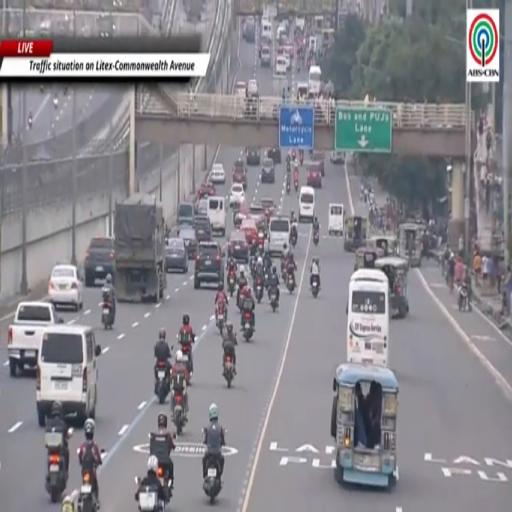car: (48, 264, 83, 311), (84, 237, 115, 286), (194, 242, 223, 289), (165, 238, 188, 273), (228, 231, 250, 264), (178, 227, 197, 259), (240, 218, 258, 247), (194, 215, 212, 243), (233, 159, 247, 189), (233, 201, 248, 228), (177, 203, 194, 226), (310, 150, 324, 177), (209, 163, 226, 185), (261, 158, 275, 183), (230, 183, 245, 206), (307, 163, 321, 187), (260, 198, 275, 220), (197, 182, 215, 199), (245, 146, 261, 165), (248, 204, 265, 221), (194, 198, 208, 216), (260, 45, 271, 67), (267, 148, 281, 164), (234, 82, 247, 97), (330, 151, 344, 164), (248, 79, 258, 95)
jeepney: (331, 363, 398, 487), (375, 256, 408, 317), (398, 222, 426, 266), (344, 216, 368, 251), (354, 246, 384, 270), (368, 235, 397, 255)
motorcycle: (45, 432, 68, 503), (203, 457, 221, 504), (77, 471, 98, 511), (155, 361, 170, 404), (138, 487, 164, 511), (173, 390, 185, 435), (182, 344, 193, 379), (458, 286, 471, 311), (216, 302, 226, 334), (224, 356, 234, 388), (102, 300, 113, 329), (243, 311, 253, 341), (255, 277, 263, 303), (228, 271, 236, 297), (270, 290, 278, 312), (312, 276, 320, 297), (287, 274, 295, 293), (250, 258, 256, 278), (258, 232, 264, 251), (290, 232, 297, 248), (264, 269, 269, 289), (313, 230, 319, 246), (294, 180, 299, 191), (286, 181, 290, 194), (28, 117, 32, 129), (300, 150, 303, 165)
truck: (114, 192, 166, 302), (7, 301, 63, 377)
